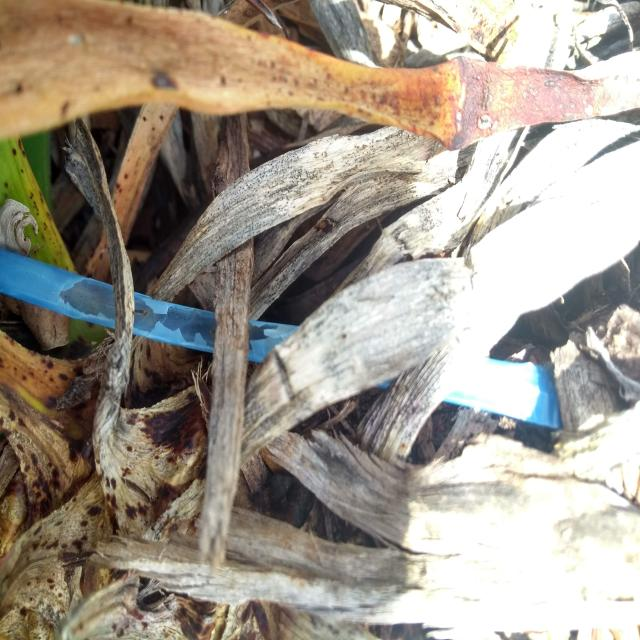litter: (2, 247, 301, 373), (434, 349, 559, 431)
